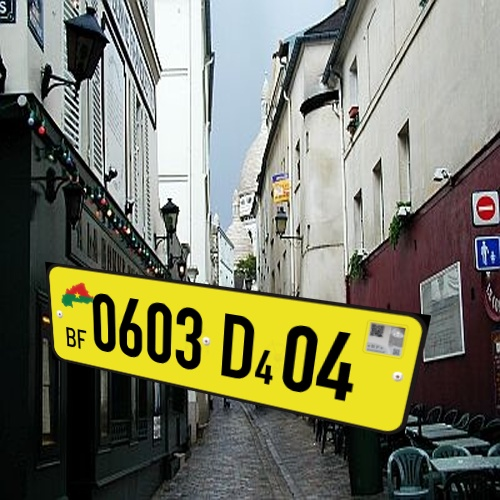plate: (38, 244, 439, 464)
